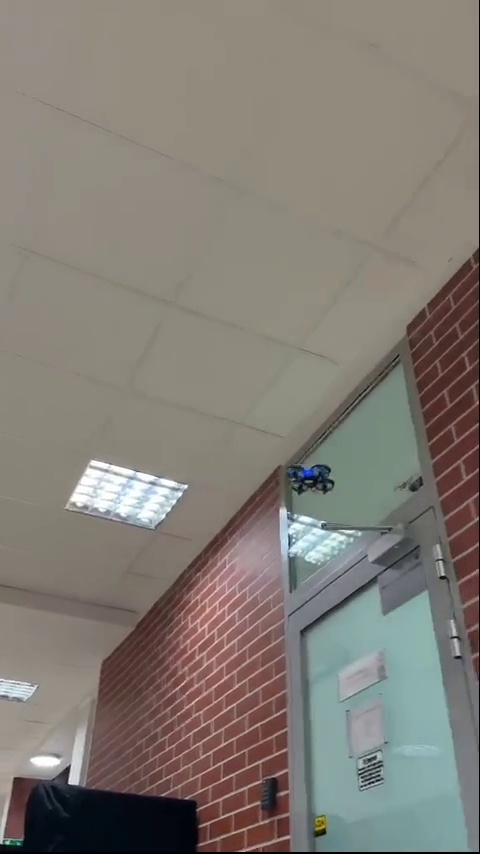drone: (271, 467, 337, 493)
